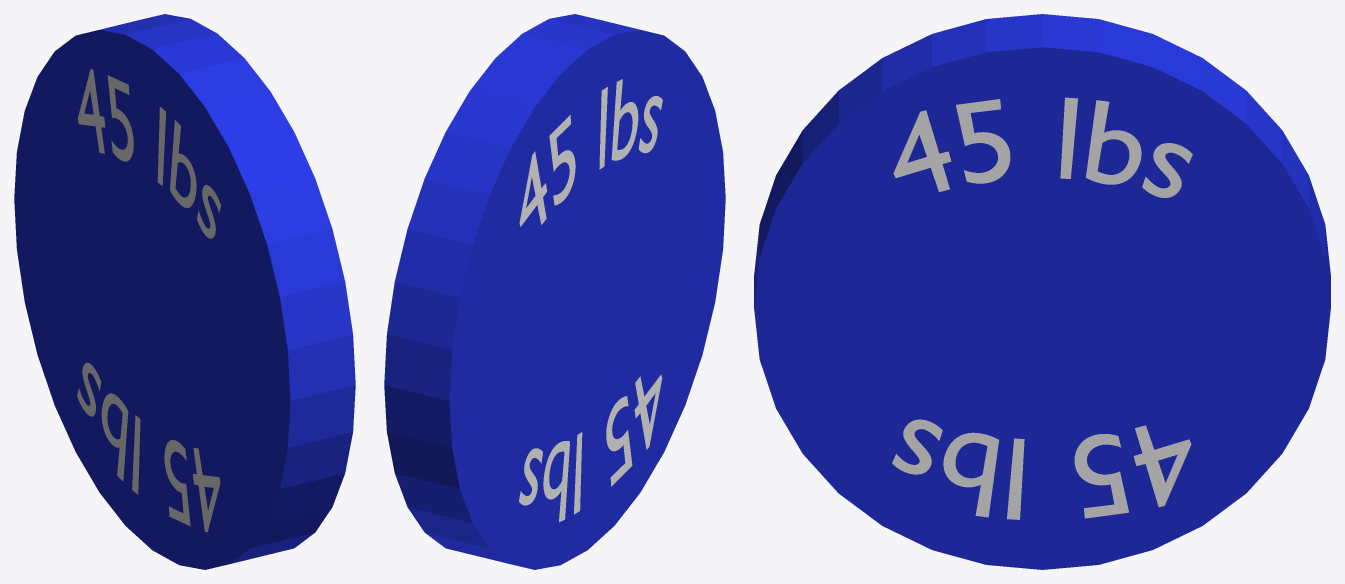
File: 45plate.fbx
3 views of the same model, side by side, from view 1: azimuth 30°, elevation 25°; view 2: azimuth 150°, elevation 25°; view 3: azimuth 270°, elevation 25° (orthographic). The views are drawn at different scales.
Parts seen in each view (by area): view 1: Cylinder, Text.003, Text.002; view 2: Cylinder, Text.002, Text.003; view 3: Cylinder, Text.001, Text.
Part boxes in pixels (x1,y1,x2,y2): Cylinder: (14,14,355,569); Text.003: (77,362,220,532); Text.002: (77,69,220,238); Cylinder: (384,14,725,569); Text.002: (519,79,662,226); Text.003: (519,374,662,522); Cylinder: (754,14,1330,569); Text.001: (892,419,1191,519); Text: (893,97,1192,197).
Bounding box in the file's own units: 63.3 × 440 × 440.
